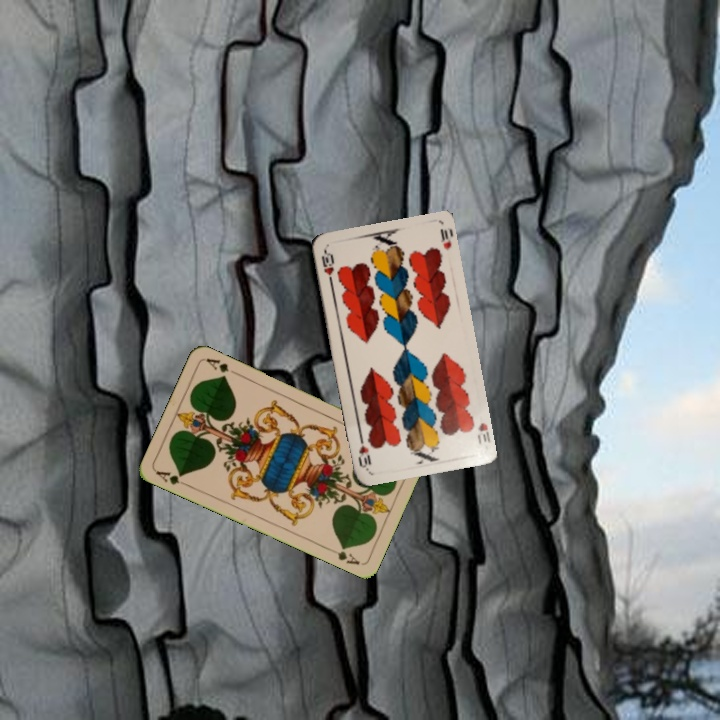GA: (152, 467, 191, 489)
H10: (317, 246, 336, 286), (473, 419, 492, 447)
